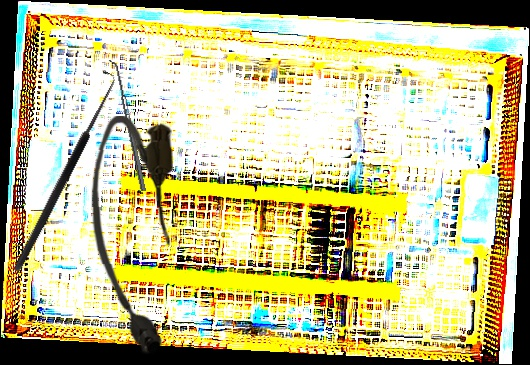Cannula: (88, 115, 177, 356)
Hook Surgical: (3, 69, 121, 274)
Spatula Surgical: (108, 58, 146, 193)
